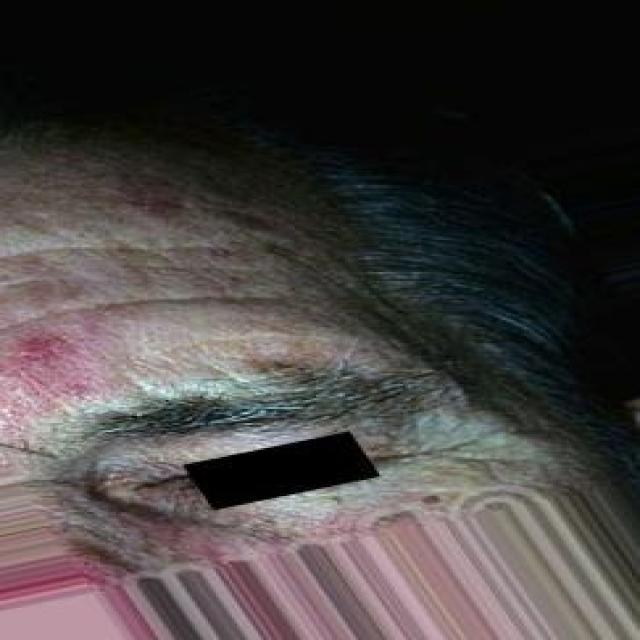Rosacea: (0, 324, 102, 419), (110, 173, 179, 220)
